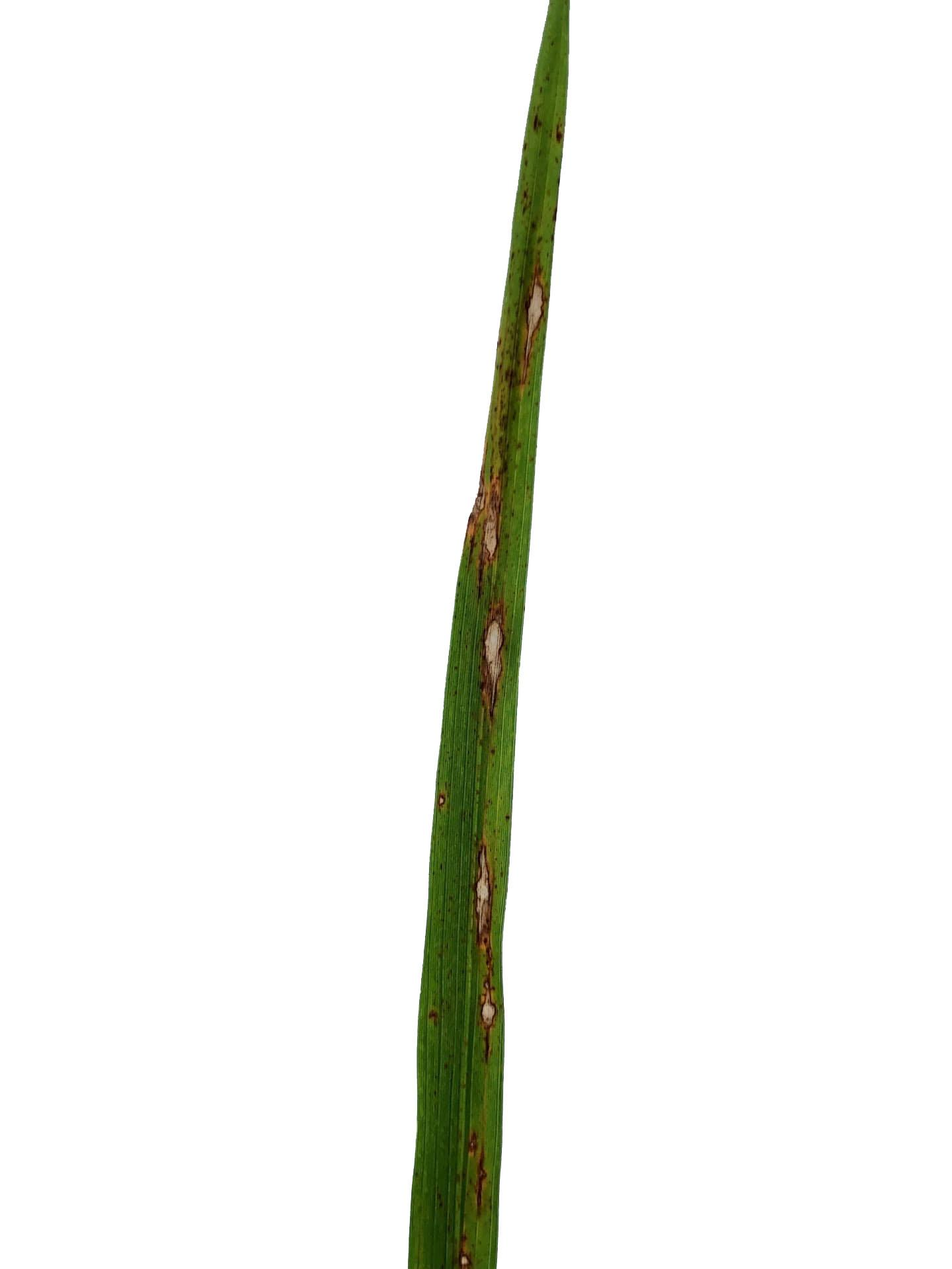Rice blast: (466, 835, 508, 1065), (477, 585, 507, 748), (518, 260, 551, 379), (461, 1130, 491, 1235), (483, 478, 502, 578), (455, 1246, 474, 1269)
